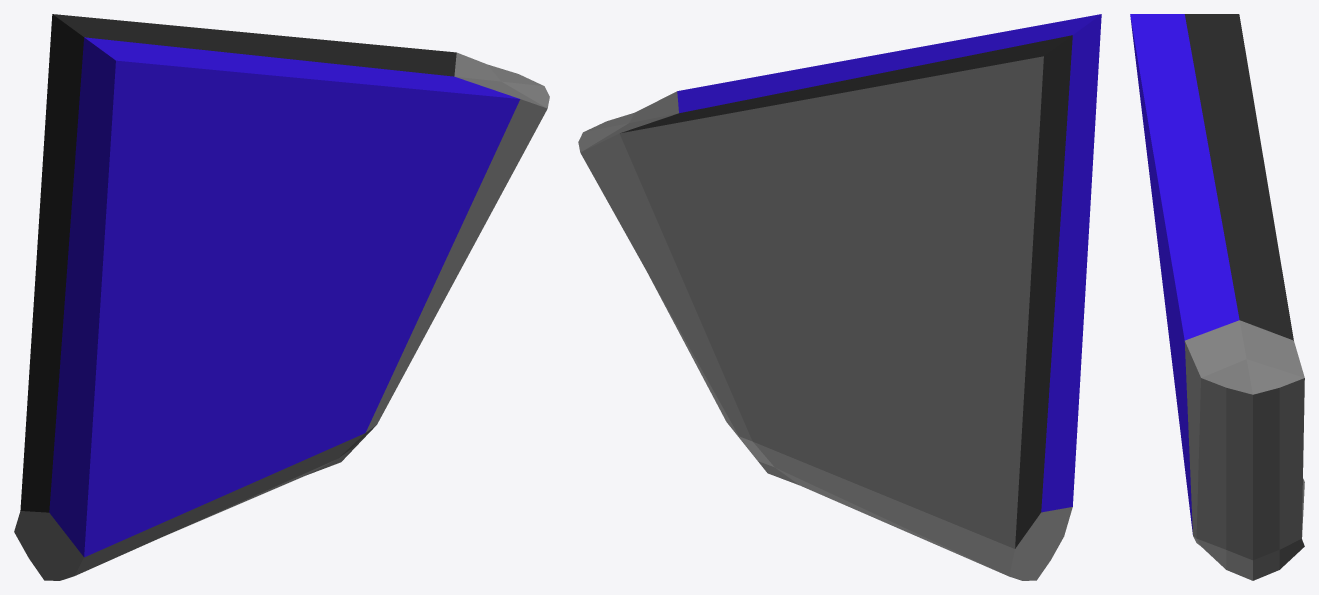
Rendered from ArmorRD.fbx.
3 views of the same model, side by side, from view 1: azimuth 30°, elevation 25°; view 2: azimuth 150°, elevation 25°; view 3: azimuth 270°, elevation 25° (orthographic). The views are drawn at different scales.
Parts seen in each view (by area): view 1: Armor.RD; view 2: Armor.RD; view 3: Armor.RD.
Part boxes in pixels (x1,y1,x2,y2): Armor.RD: (14,14,549,580); Armor.RD: (578,14,1101,580); Armor.RD: (1130,14,1304,580).
Bounding box in the file's own units: 18.14 × 19.83 × 6.4.
